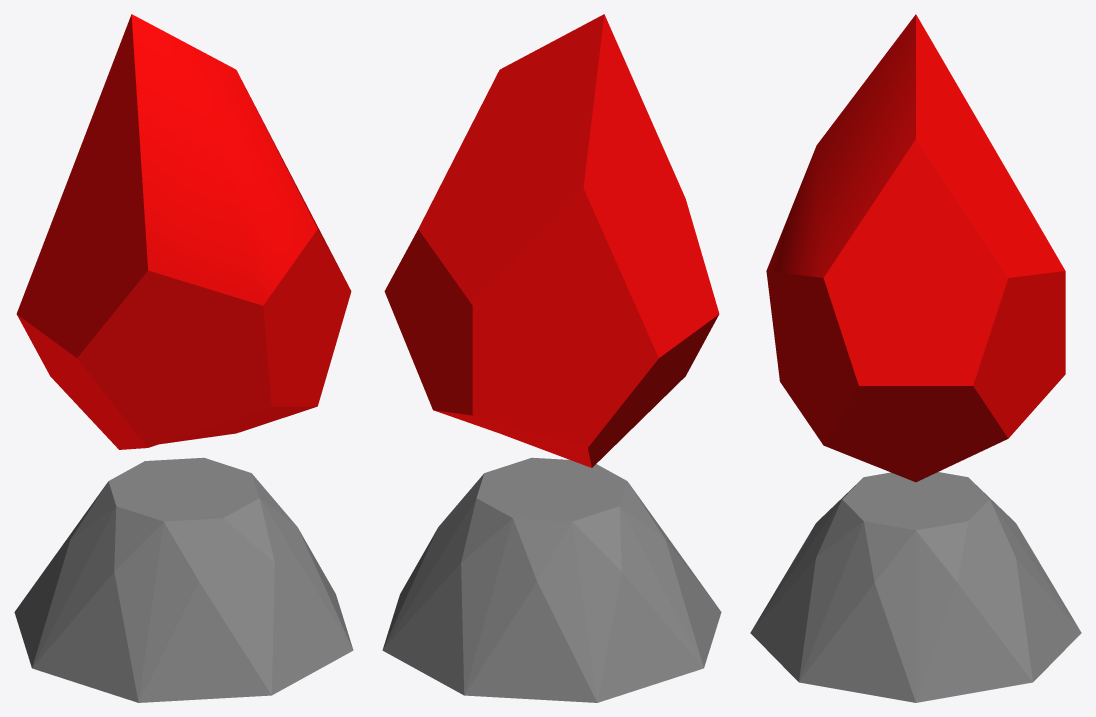
File: crystal stand.fbx
The picture shows the model from 3 angles, left to right: view 1: azimuth 30°, elevation 25°; view 2: azimuth 150°, elevation 25°; view 3: azimuth 270°, elevation 25°; orthographic projection. The views are drawn at different scales.
Parts seen in each view (by area): view 1: pPlatonic1, pCylinder1; view 2: pPlatonic1, pCylinder1; view 3: pPlatonic1, pCylinder1.
Boxes of the visible parts, box(x1,y1,x2,y2) form: pPlatonic1: box(16, 14, 351, 449); pCylinder1: box(14, 457, 353, 702); pPlatonic1: box(384, 14, 719, 467); pCylinder1: box(382, 457, 721, 702); pPlatonic1: box(766, 14, 1065, 482); pCylinder1: box(750, 472, 1081, 702).
Bounding box in the file's own units: 4.49 × 8.89 × 4.49.
